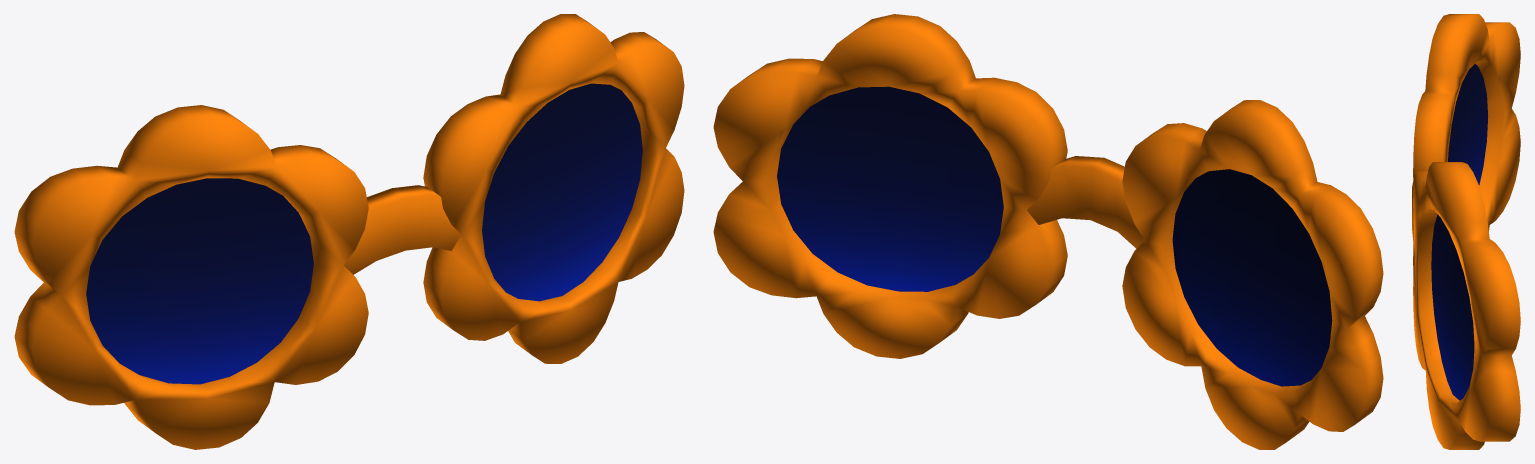
The model's file is AccessoryGlassFlower1.glb.
The picture shows the model from 3 angles, left to right: view 1: azimuth 30°, elevation 25°; view 2: azimuth 150°, elevation 25°; view 3: azimuth 270°, elevation 25°; orthographic projection. The views are drawn at different scales.
Visible parts, largest first — view 1: Accessory__mAccessory; view 2: Accessory__mAccessory; view 3: Accessory__mAccessory.
Boxes of the visible parts, box(x1,y1,x2,y2) form: Accessory__mAccessory: box(14, 14, 684, 449); Accessory__mAccessory: box(713, 14, 1383, 449); Accessory__mAccessory: box(1412, 14, 1520, 449).
Size of the model in its own units: 5.9 by 2.85 by 1.02.
1 material, 1 textured.
